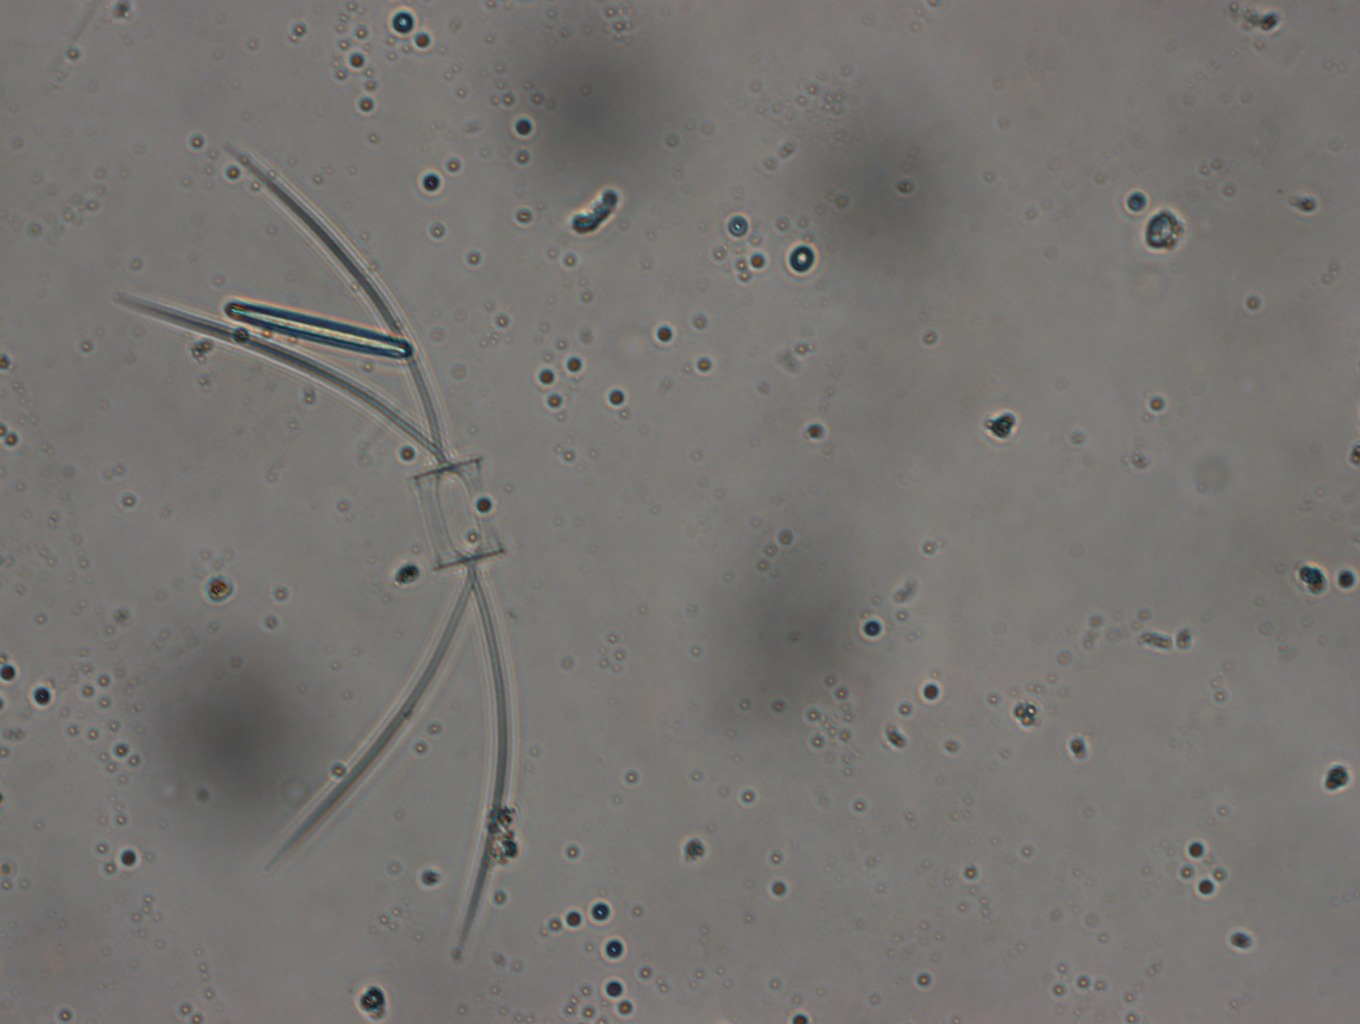chaetoceros: (146, 122, 524, 951)
